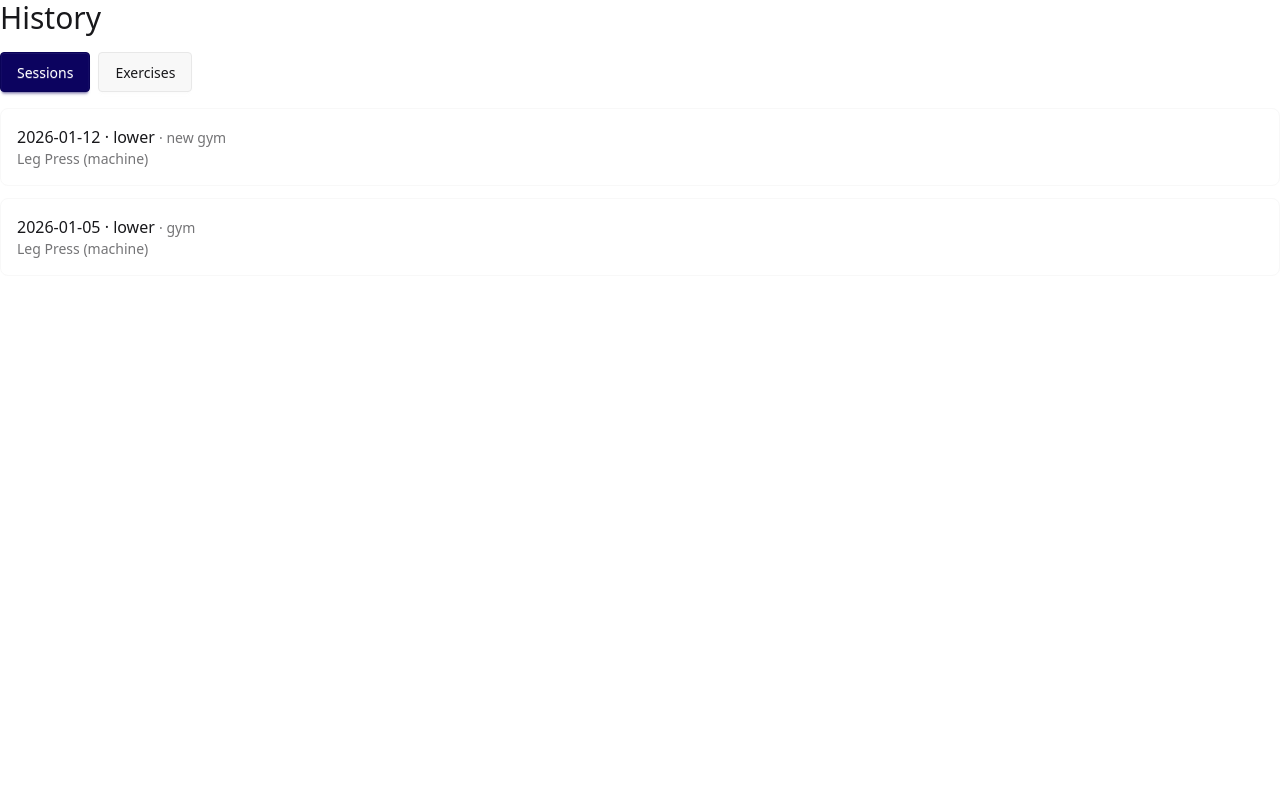
it: History › deletes a Session after confirmation and drops it from history
Click the button "2026-01-12 · lower · new gym Leg Press (machine)" at [88, 137], box [0, 108, 1279, 186]
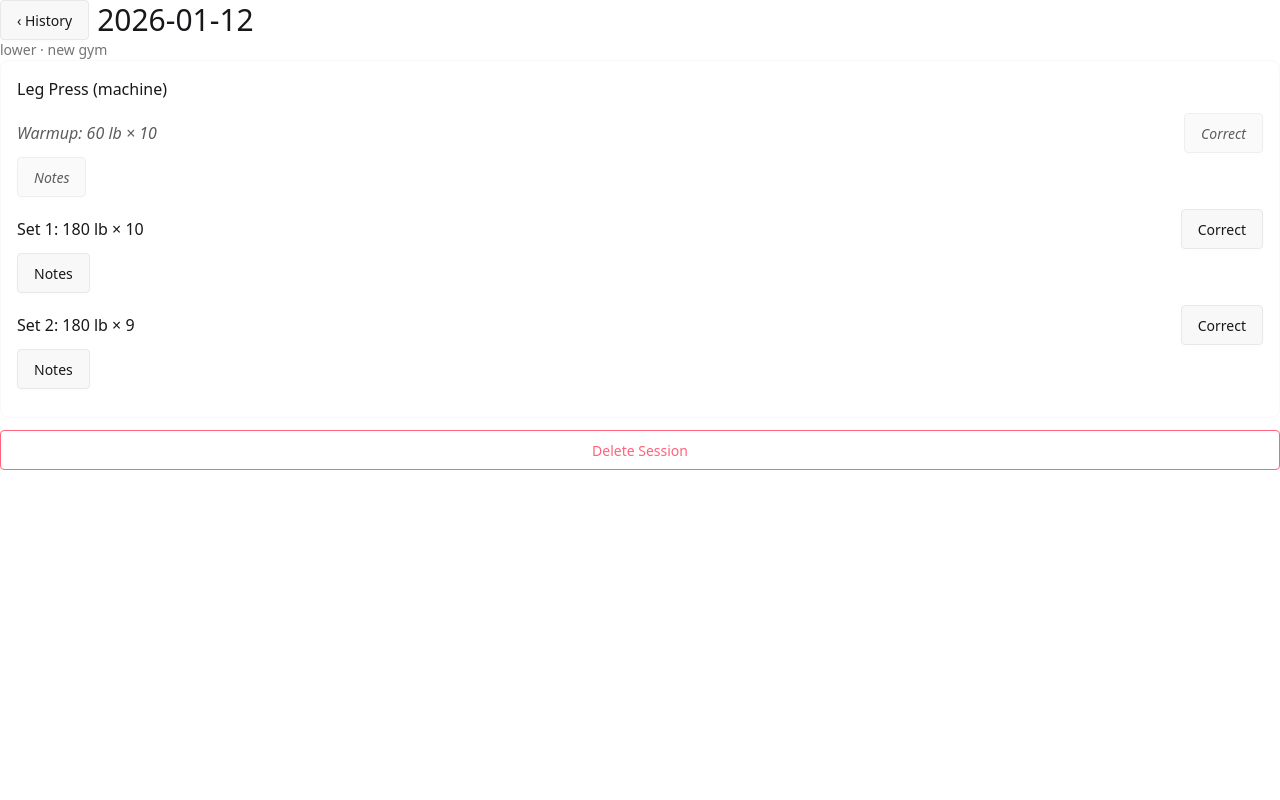
Click the button "Delete Session" at [640, 450], box [0, 430, 1279, 470]
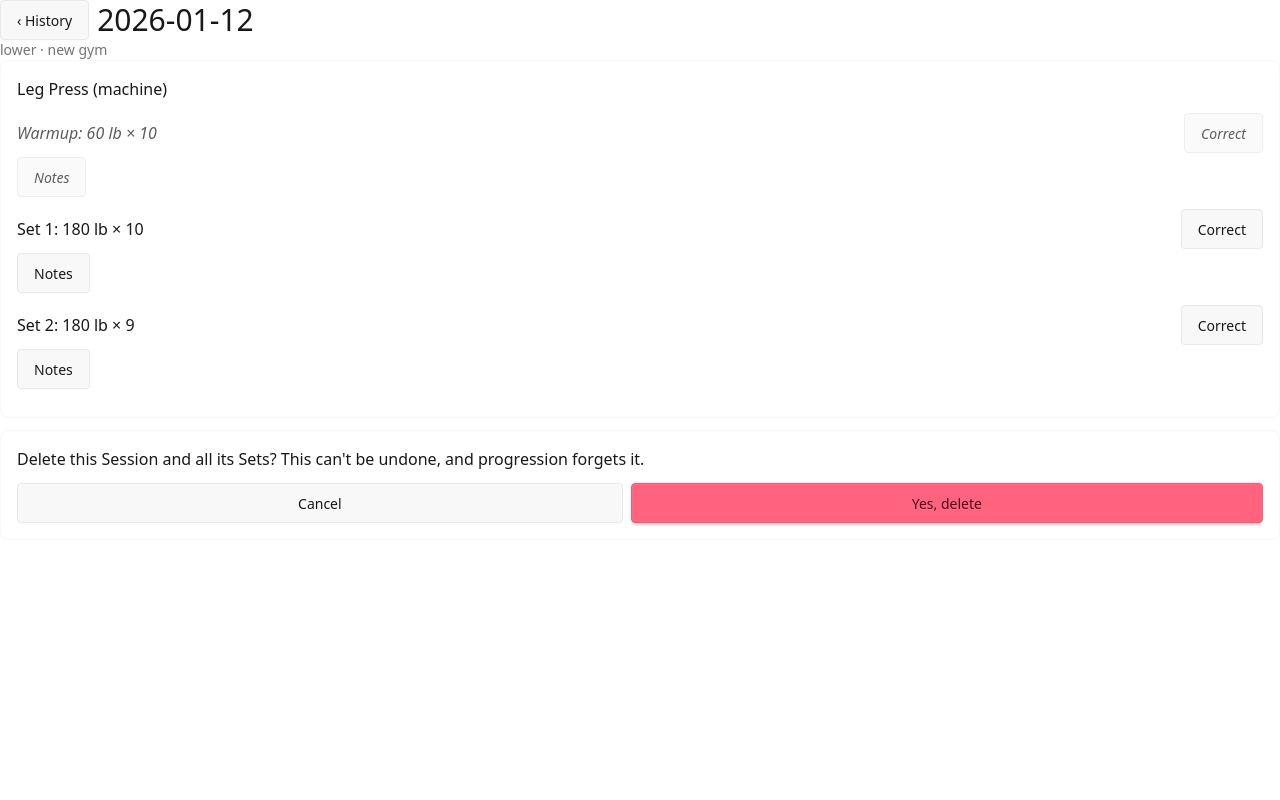
Click the button "Cancel" at [320, 503], box [17, 483, 623, 523]
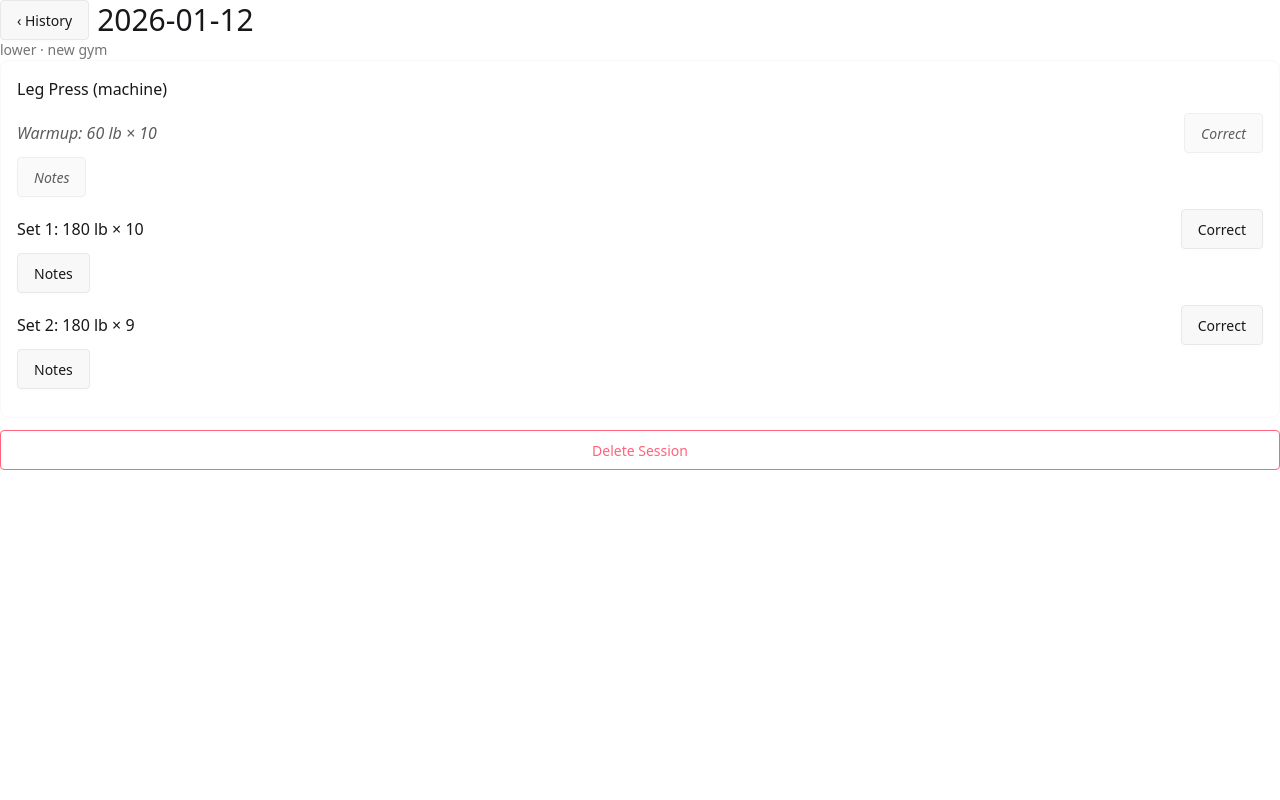
Click the button "Delete Session" at [640, 450], box [0, 430, 1279, 470]
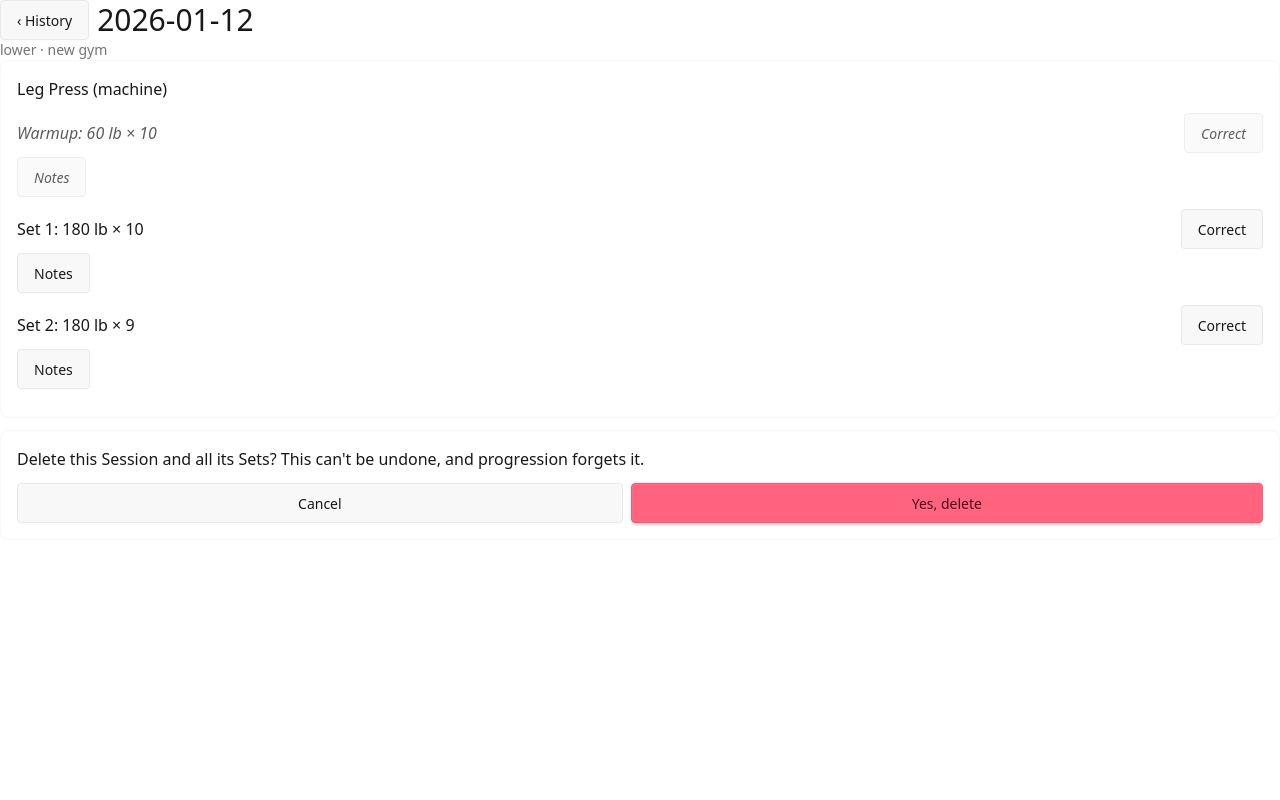
Click the button "Yes, delete" at [947, 503], box [631, 483, 1263, 523]
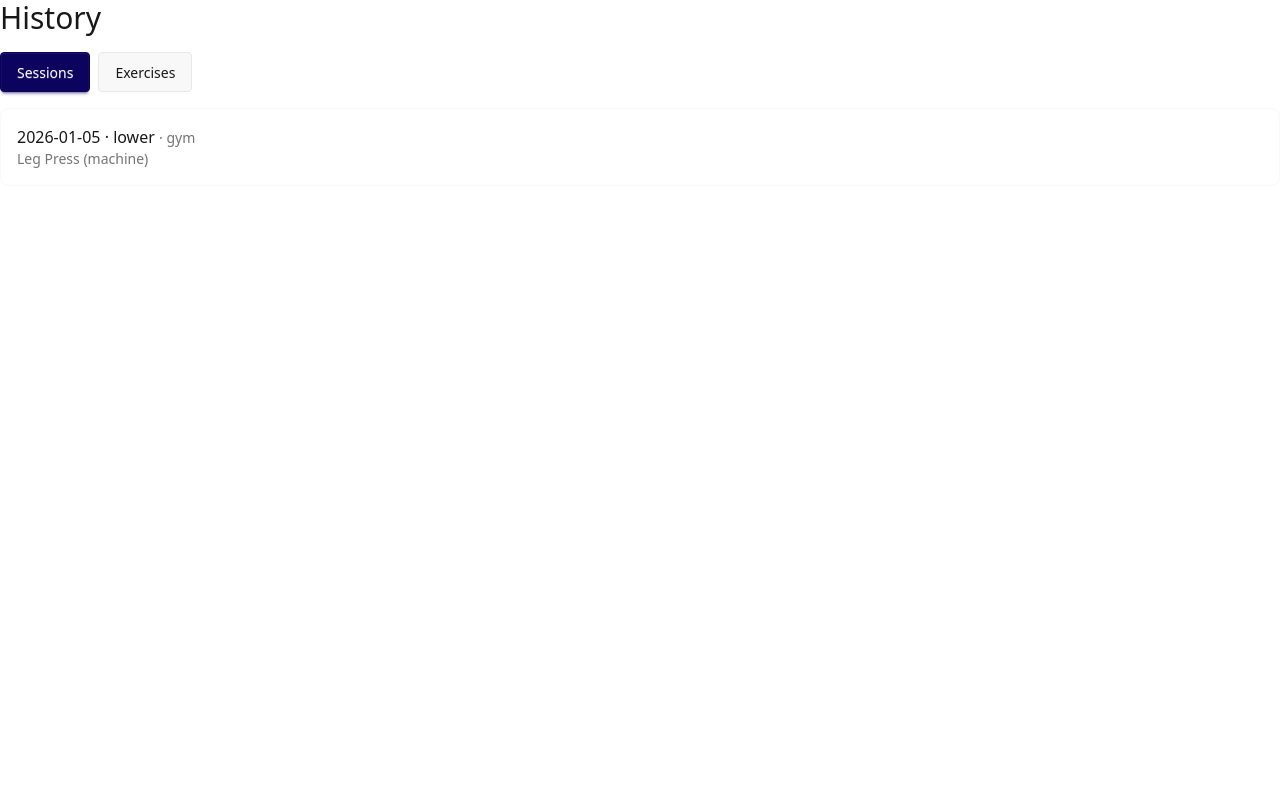
Now the number of buttons "2026-01-05 · lower · gym Leg Press (machine)" is 1, box [0, 108, 1279, 186]
Now the button "2026-01-05 · lower · gym Leg Press (machine)" is shown, box [0, 108, 1279, 186]
